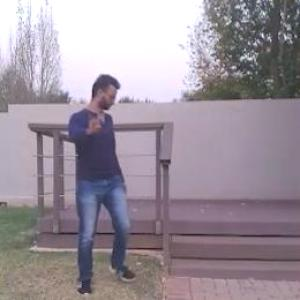takeoff-hand: (80, 104, 110, 135)
